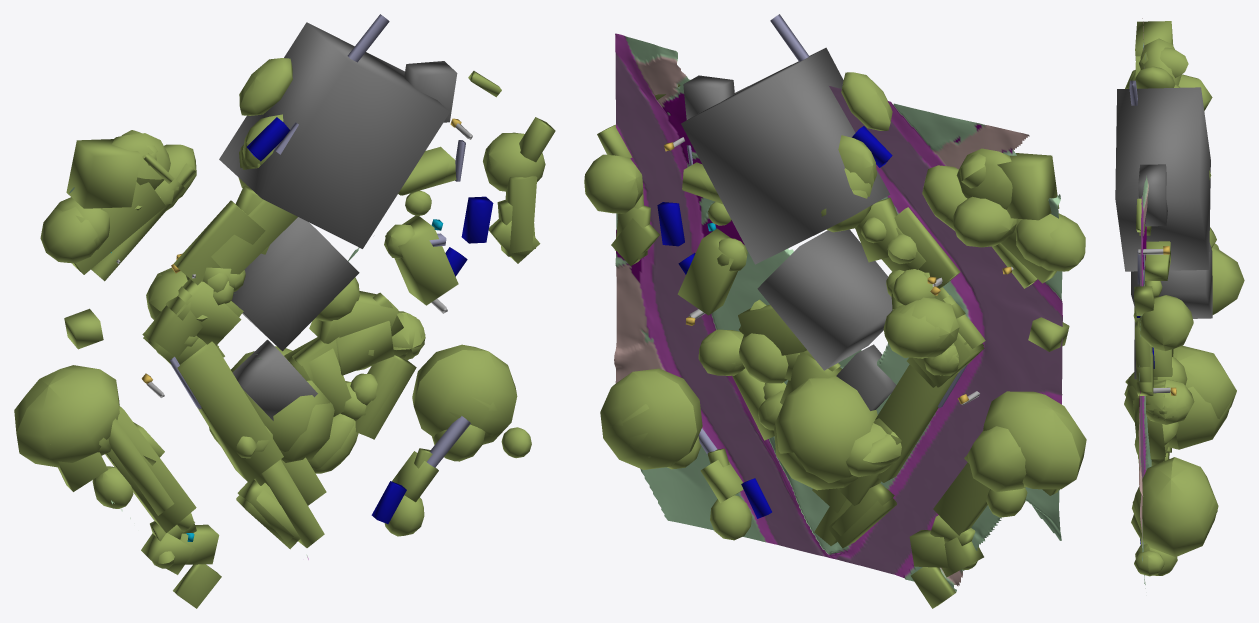
Rendered from medium_343.glb.
3 renders of one model, left to right at view 1: azimuth 30°, elevation 25°; view 2: azimuth 150°, elevation 25°; view 3: azimuth 270°, elevation 25°, orthographic. The views are drawn at different scales.
Bounding box in the file's own units: 71.01 × 73.34 × 17.21.
